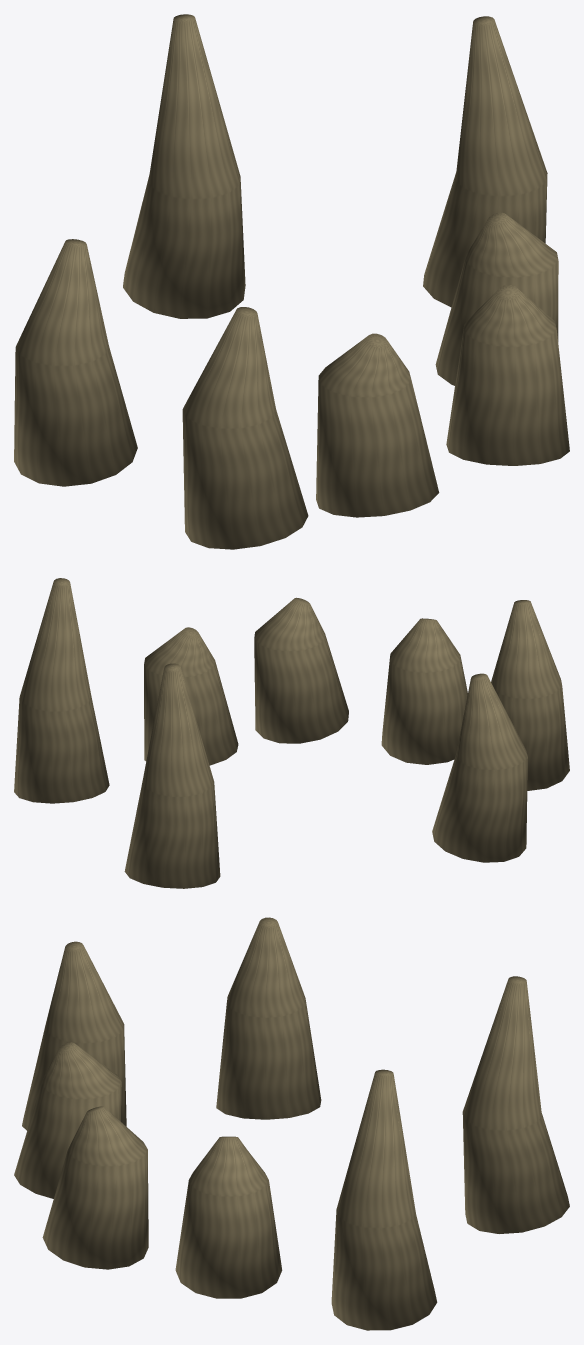
The model's file is medium_cypress_knee_cluster_swamp_and_mangrove_22613.glb.
The picture shows the model from 3 angles, top to bottom: view 1: azimuth 30°, elevation 25°; view 2: azimuth 150°, elevation 25°; view 3: azimuth 270°, elevation 25°; orthographic projection. The views are drawn at different scales.
Parts seen in each view (by area): view 1: cypress-knees-2; view 2: cypress-knees-2; view 3: cypress-knees-2.
Part boxes in pixels (box(x1,y1,x2,y2)): cypress-knees-2: box(14, 14, 569, 549); cypress-knees-2: box(14, 578, 569, 888); cypress-knees-2: box(14, 917, 569, 1330).
Size of the model in its own units: 1.51 by 0.6868 by 1.46.
Materials: 1 (1 with a texture image).
